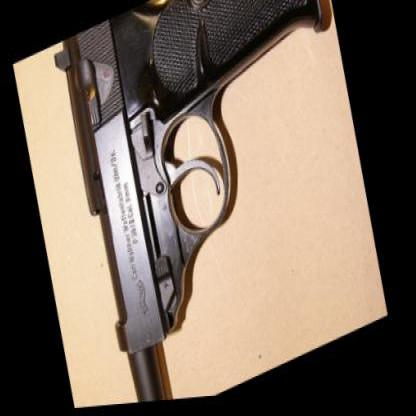pistol: (40, 0, 394, 411)
